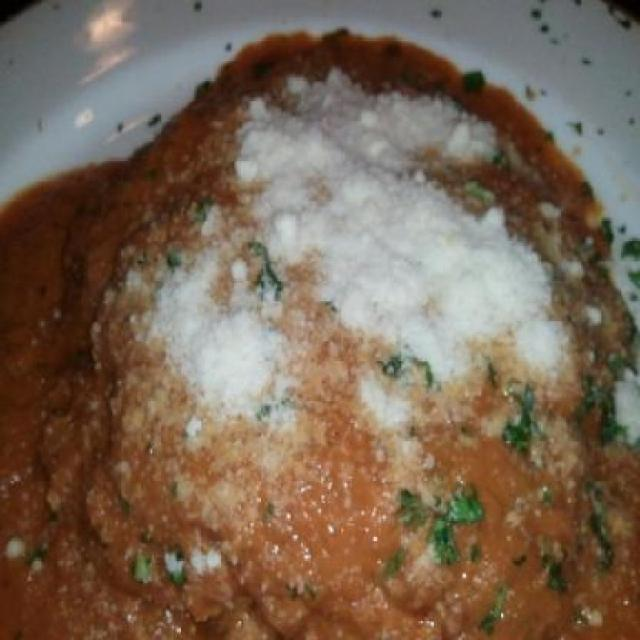Lasagna: (74, 102, 610, 613)
